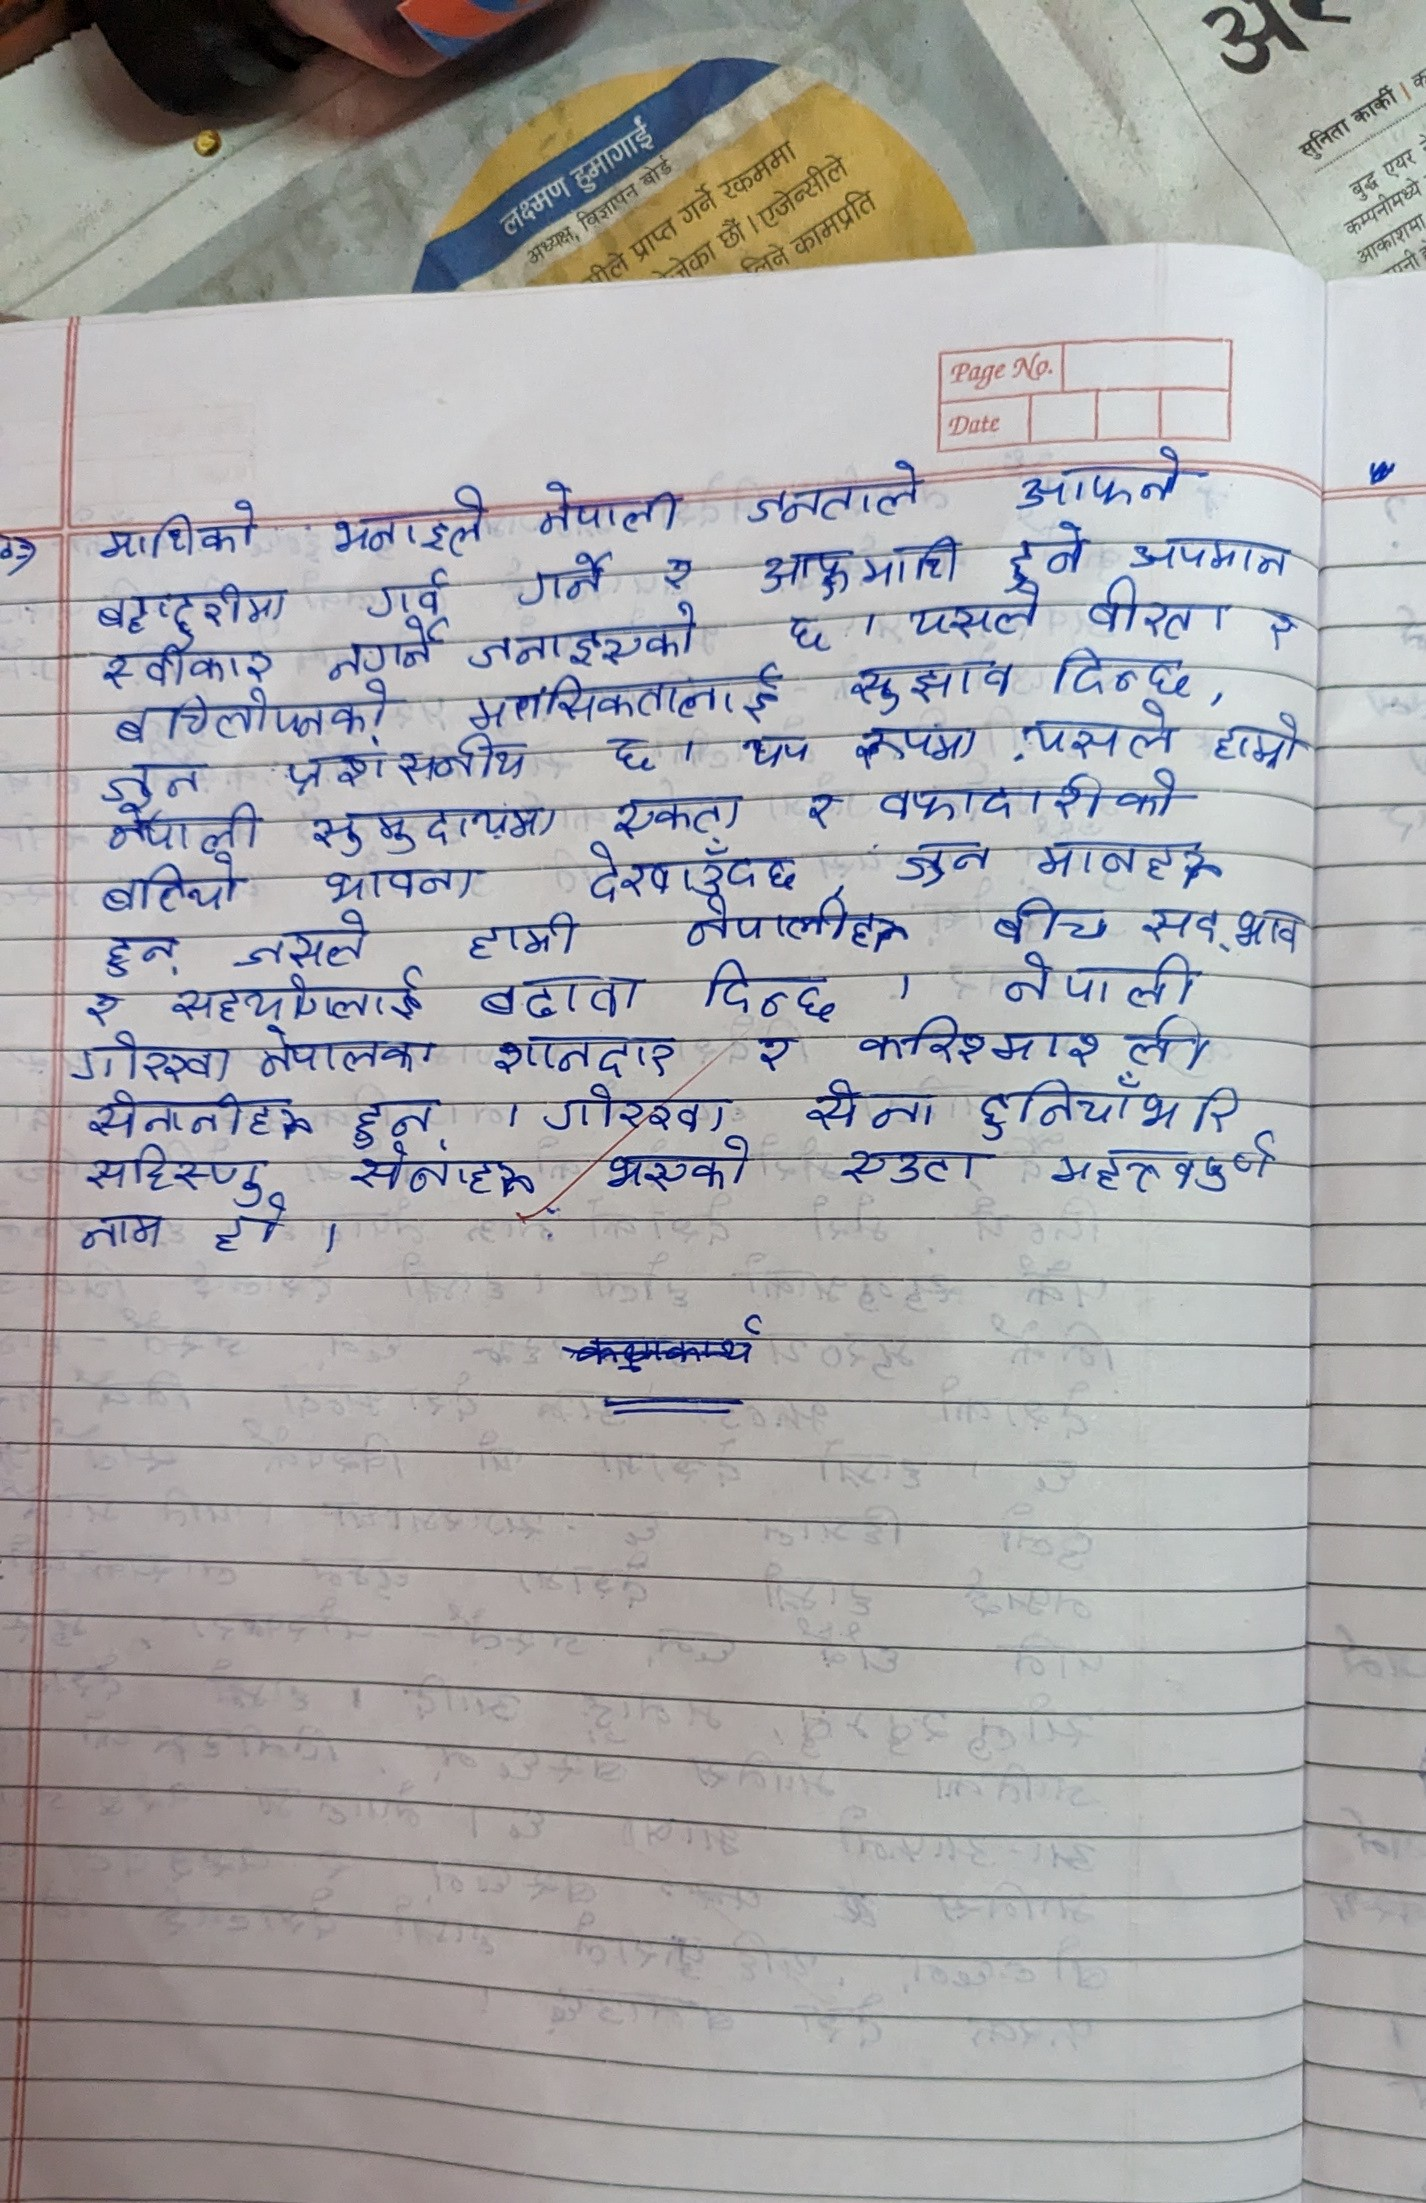text: (851, 1015, 1216, 1066), (467, 670, 787, 727), (967, 1069, 1240, 1135), (104, 686, 398, 740), (300, 798, 565, 856), (1002, 440, 1195, 519), (870, 769, 1185, 817), (732, 456, 943, 527), (271, 735, 532, 792), (1042, 1134, 1286, 1191), (763, 533, 960, 599), (165, 975, 438, 1021), (466, 613, 703, 666), (673, 898, 911, 951), (100, 490, 270, 564), (328, 483, 491, 559), (77, 1089, 308, 1142), (997, 951, 1200, 1010), (578, 838, 792, 894), (849, 649, 1018, 718), (487, 1024, 694, 1081), (1036, 827, 1225, 886), (348, 1146, 544, 1203), (80, 853, 251, 917), (95, 584, 284, 641), (259, 1020, 438, 1077), (535, 1085, 744, 1135), (535, 475, 687, 543), (79, 1143, 259, 1199), (601, 1134, 761, 1196), (1135, 893, 1307, 947), (66, 1032, 238, 1087), (1025, 700, 1179, 759), (703, 955, 845, 1020), (475, 963, 639, 1018), (1045, 645, 1203, 702), (231, 906, 376, 967), (1119, 528, 1301, 576), (95, 803, 267, 853), (1094, 580, 1232, 641), (321, 620, 451, 679), (906, 589, 1044, 644), (318, 862, 485, 907), (607, 785, 745, 838), (803, 1077, 935, 1132), (845, 719, 984, 771), (827, 1138, 980, 1185), (93, 644, 276, 682), (989, 893, 1110, 949), (1216, 710, 1309, 779), (344, 1089, 459, 1143), (997, 523, 1084, 589), (885, 835, 988, 890), (522, 552, 615, 610), (464, 914, 577, 959), (67, 1207, 169, 1257), (95, 756, 199, 804), (206, 1203, 287, 1259), (358, 570, 456, 617), (98, 930, 180, 976), (737, 731, 821, 771), (601, 726, 662, 776), (739, 1028, 797, 1077), (780, 607, 840, 650), (1257, 599, 1299, 654), (798, 784, 846, 830), (79, 987, 124, 1028), (657, 556, 699, 589)
